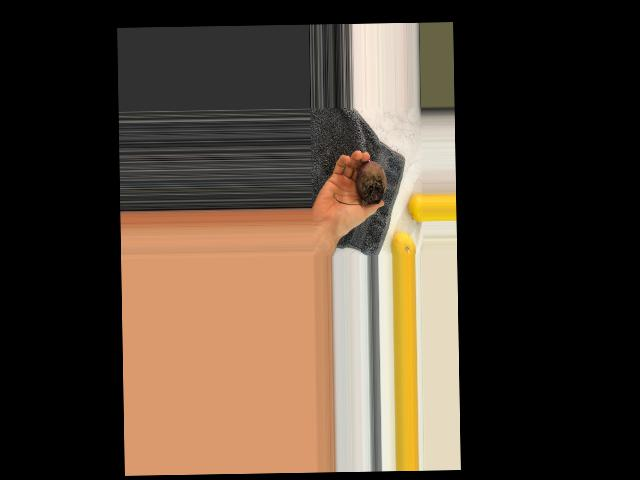beet: (333, 160, 387, 204)
